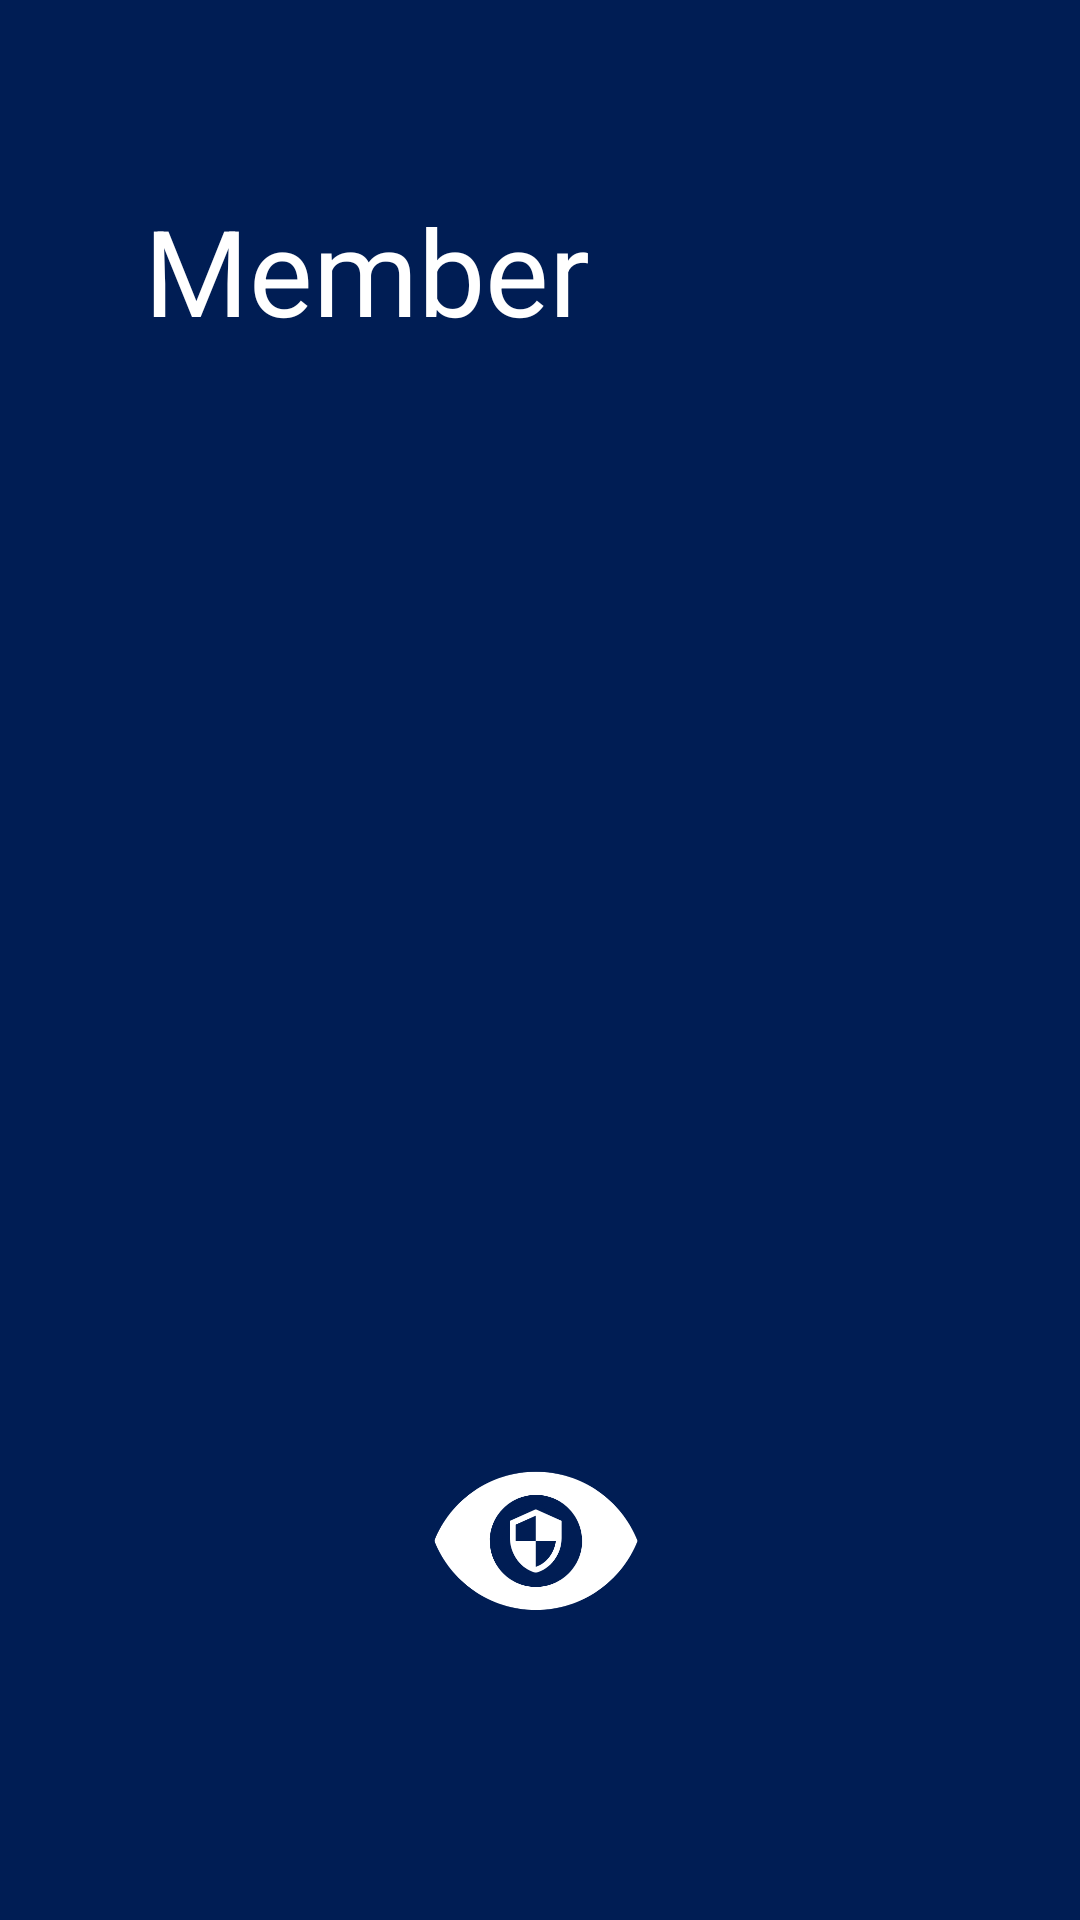

Locate icon controls on the screen. Image size 1080px×1920px, boxes as bbox=[x1, y1, x2, y2].
eye: bbox=[434, 1471, 638, 1610]
